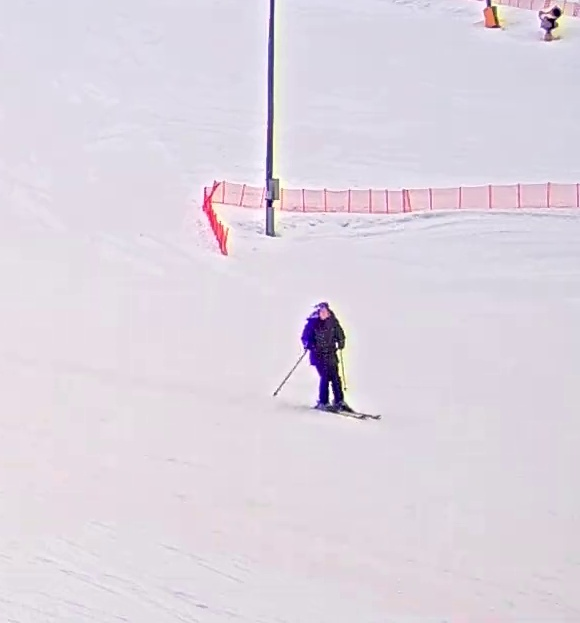skier: (270, 299, 383, 421)
